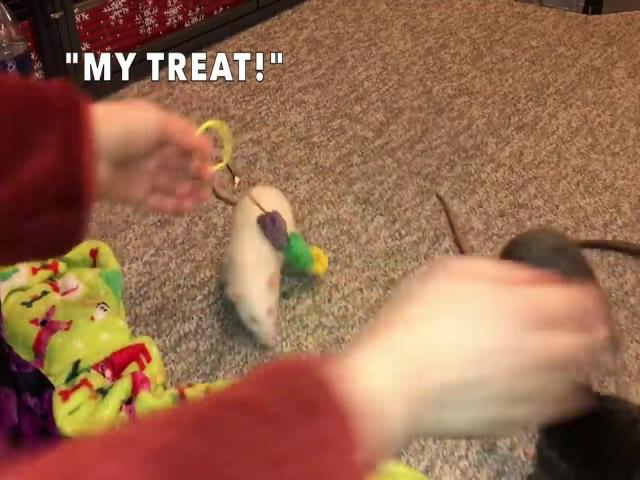Tikus: (222, 181, 298, 349)
